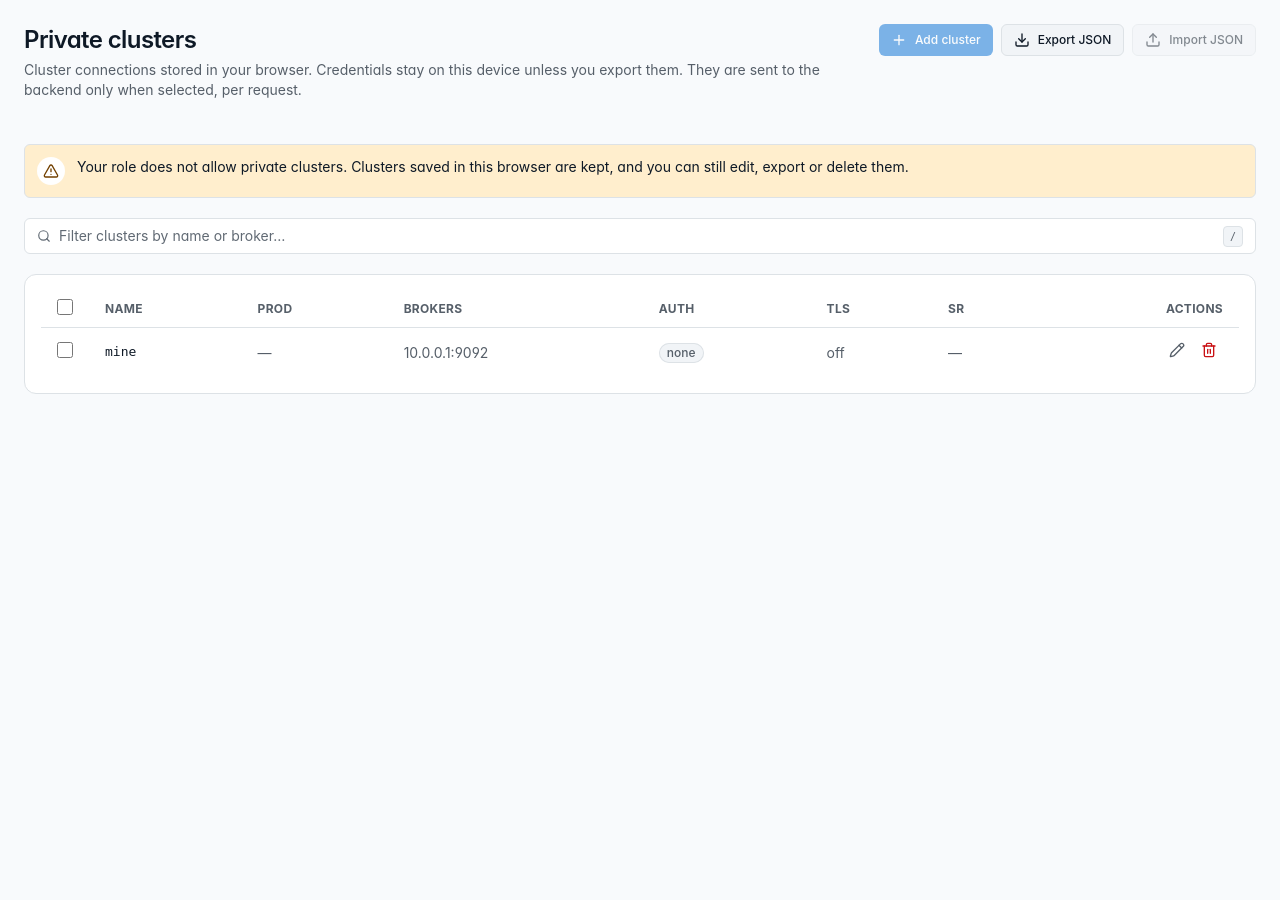
Test: private cluster settings when the server does not allow them › explains mode role and disables add, import and test connection
Expected: the message shows "Your role does not allow private clusters.", 77,158 -> 347,175
Expected: the button "Add cluster" is disabled, 879,24 -> 993,56
Click the button named "Edit": (1177, 350) 1163,336 -> 1191,364
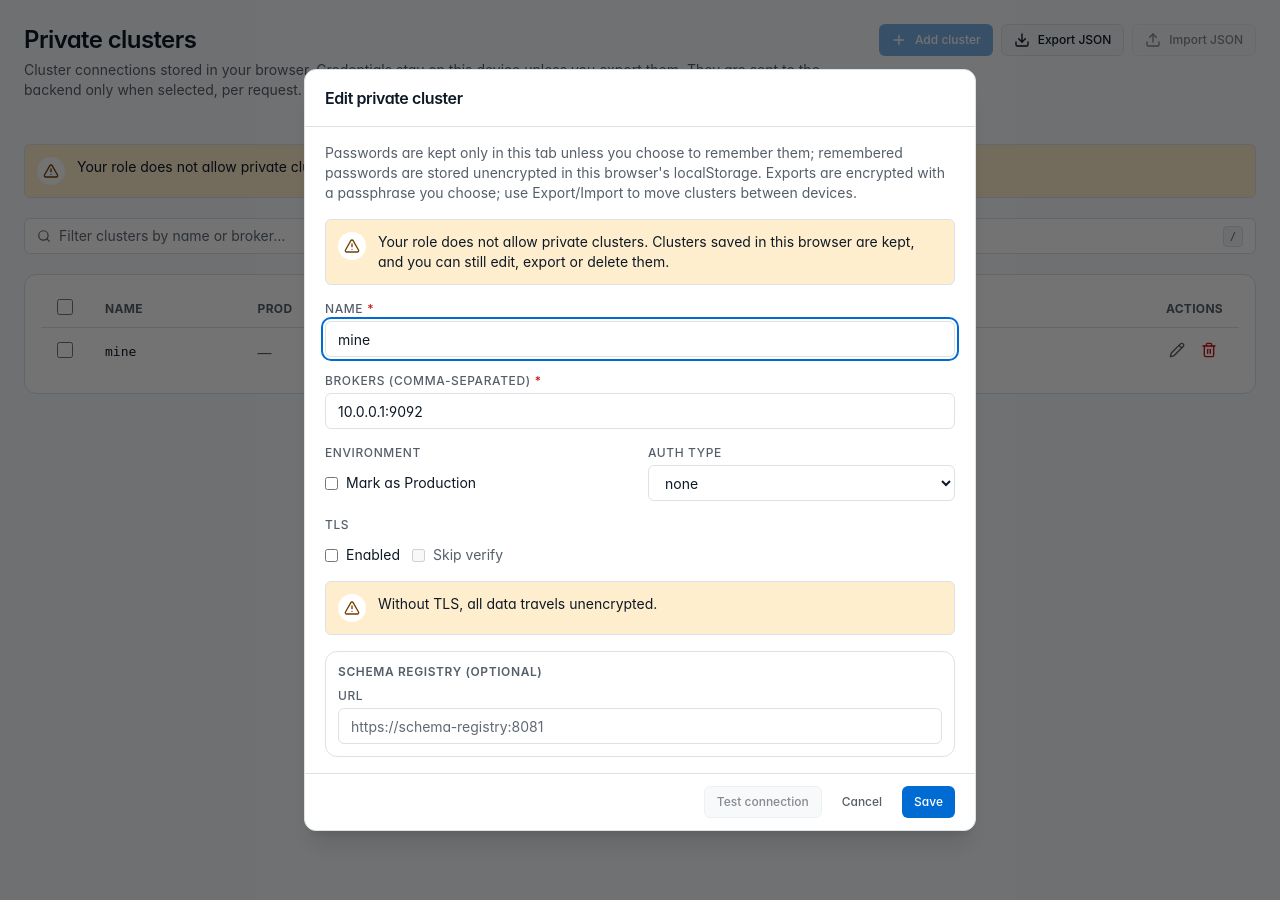
Now the button "Test connection" is disabled, box 704,786 -> 822,818
Now the text "Your role does not allow private clusters." is shown, box 378,233 -> 648,250
Now the button "Save" is enabled, box 902,786 -> 955,818
